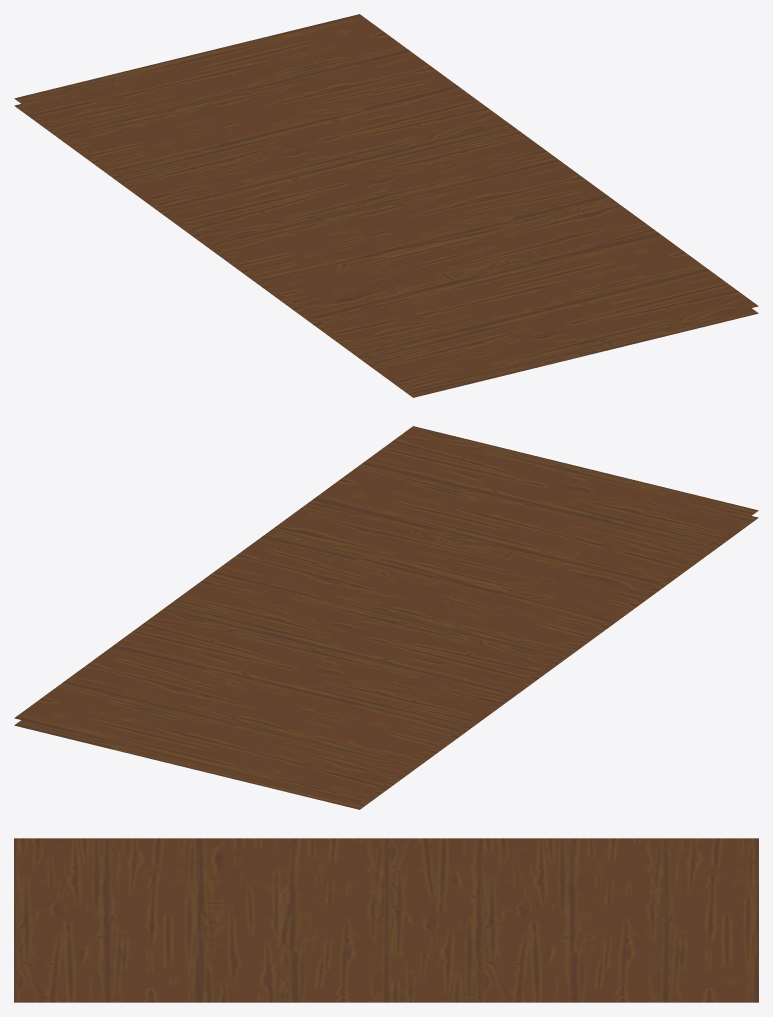
File: Floor_WoodDark_Half1.glb
3 renders of one model, top to bottom at view 1: azimuth 30°, elevation 25°; view 2: azimuth 150°, elevation 25°; view 3: azimuth 270°, elevation 25°, orthographic. The views are drawn at different scales.
Visible parts, largest first — view 1: Floor_WoodDark_Half1; view 2: Floor_WoodDark_Half1; view 3: Floor_WoodDark_Half1.
Part boxes in pixels (x1,y1,x2,y2): Floor_WoodDark_Half1: [14, 14, 758, 397]; Floor_WoodDark_Half1: [14, 426, 758, 809]; Floor_WoodDark_Half1: [14, 838, 758, 1002].
Bounding box in the file's own units: 1 × 0.02 × 2.
Materials: 1 (1 with a texture image).
